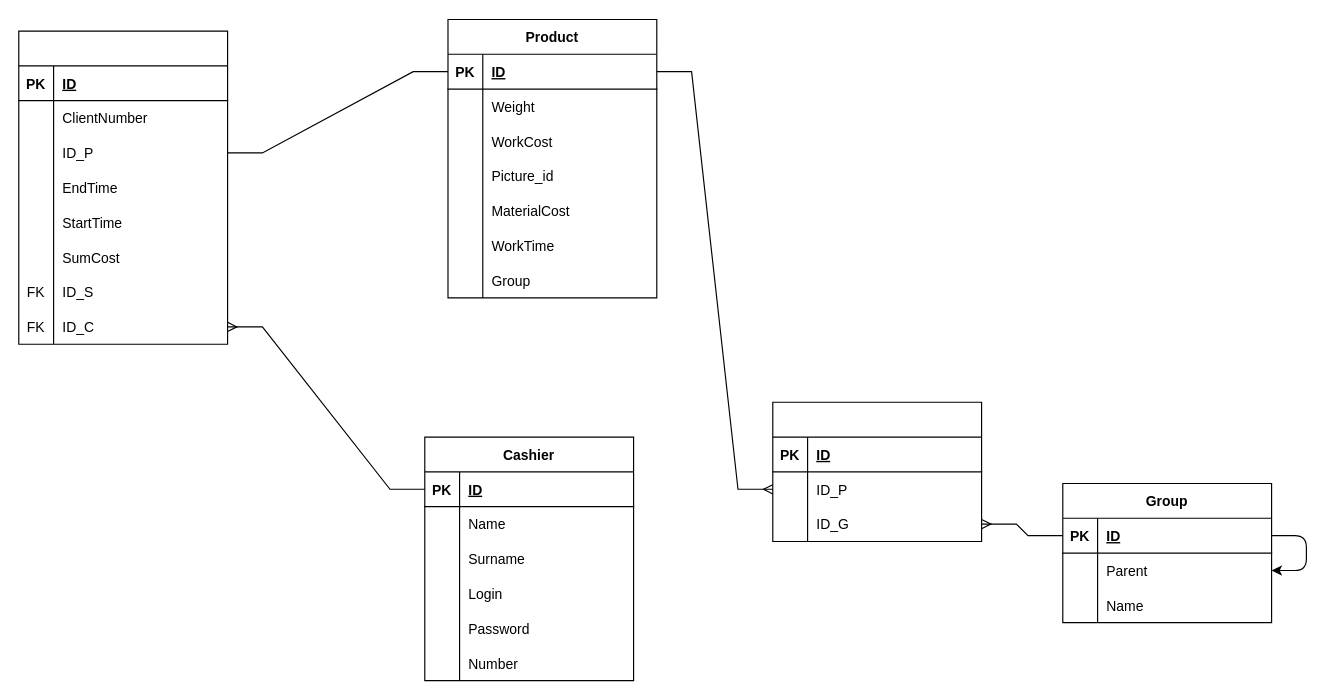
This 1326x699 diagram has some shape labels left out. Here are the shapes that lost their labels. From the top down, the box of each, then its label:
(18, 30, 228, 344): Order
(772, 401, 982, 541): ProdGroup
